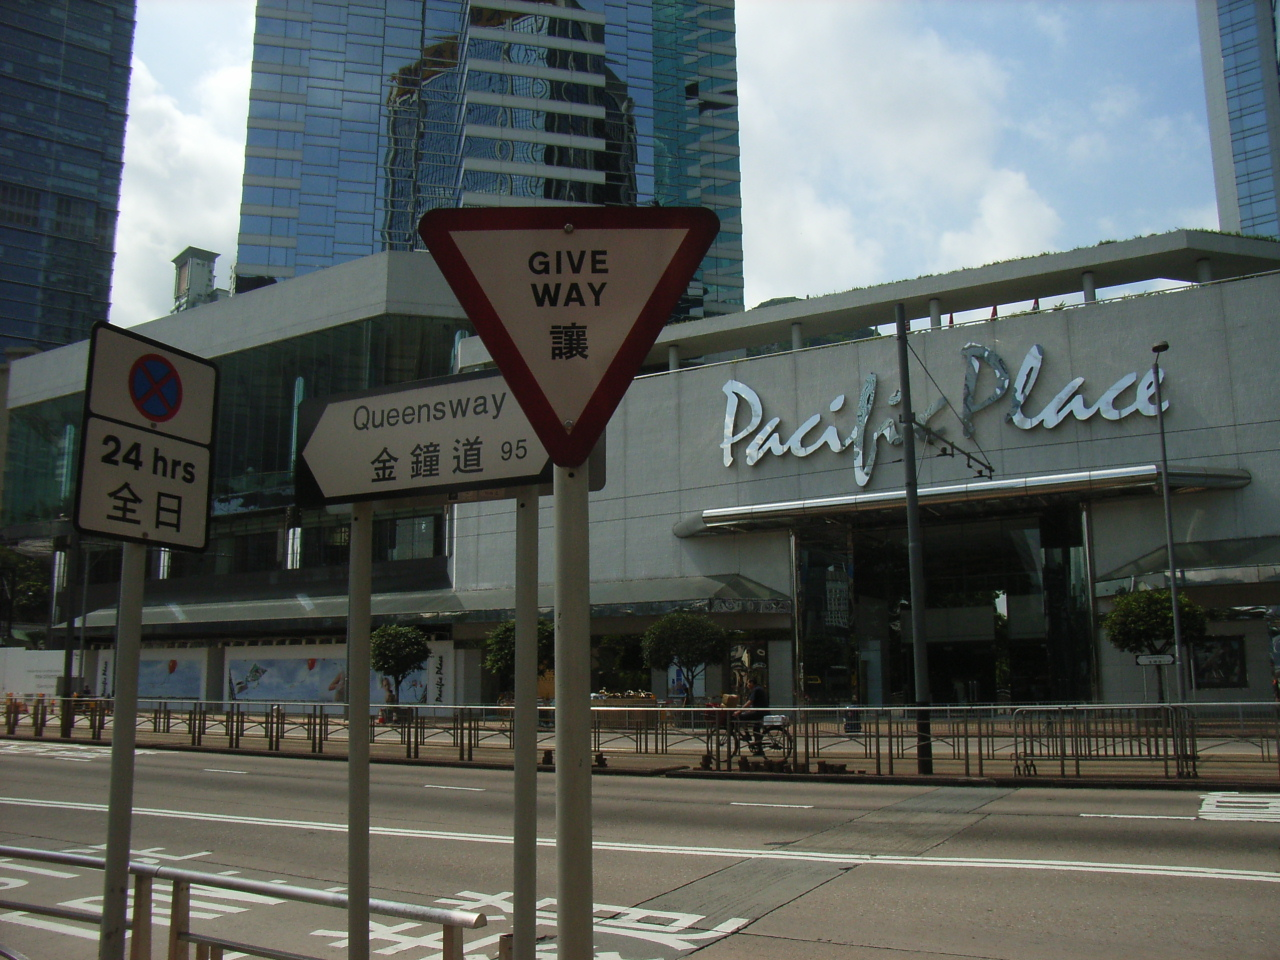Give Way: (414, 198, 730, 472)
Start Of No Stopping: (92, 325, 219, 557)
